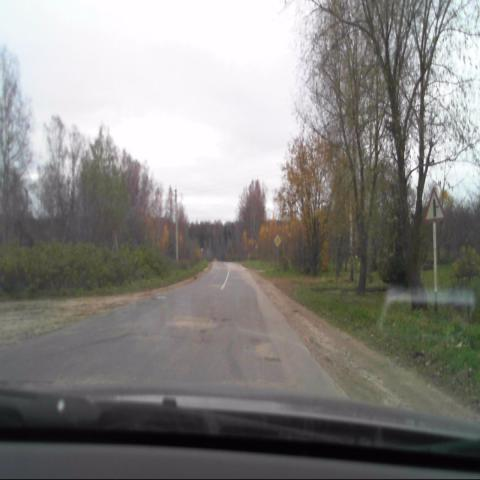2_3_2: (423, 189, 446, 224)
